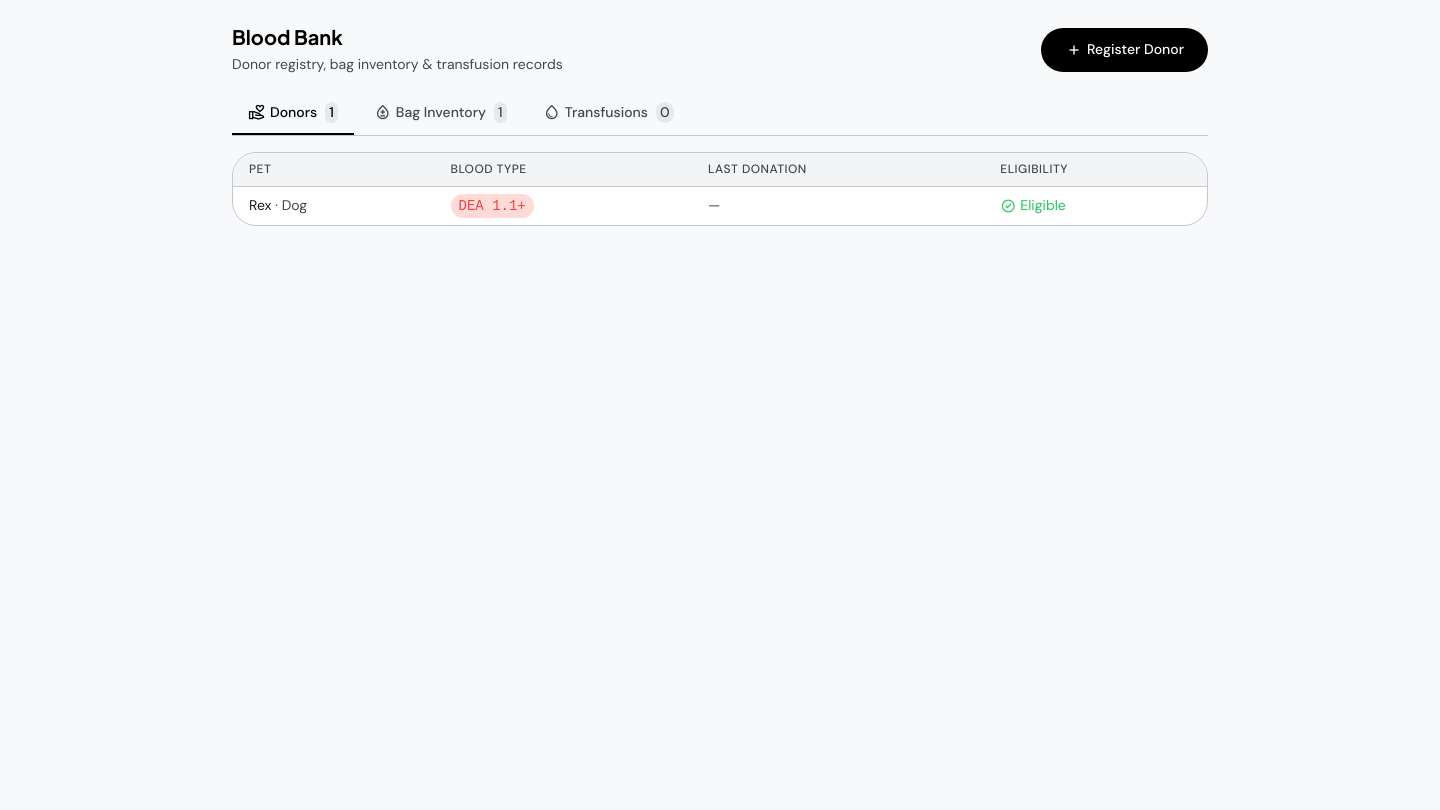
Test: AdminBloodBank — CollectionModal (MODAL-9, dismissal="explicit") › opens from "Record Collection" with an <h2> title and a close control
The image size is (1440, 810).
Click the button "Bag Inventory 1": (440, 113) [358,91,523,135]
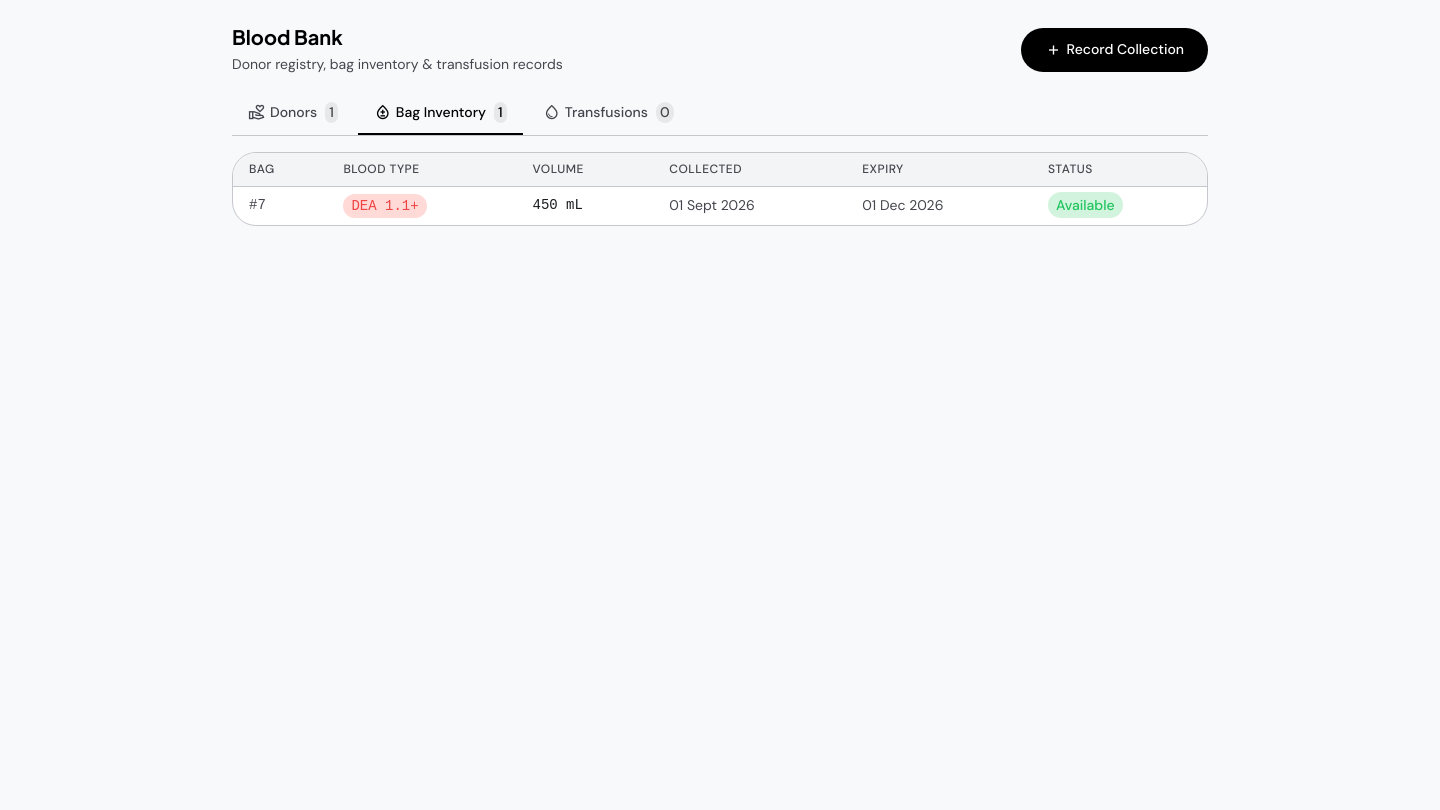
Click the button "Record Collection": (1114, 50) [1021,28,1208,72]
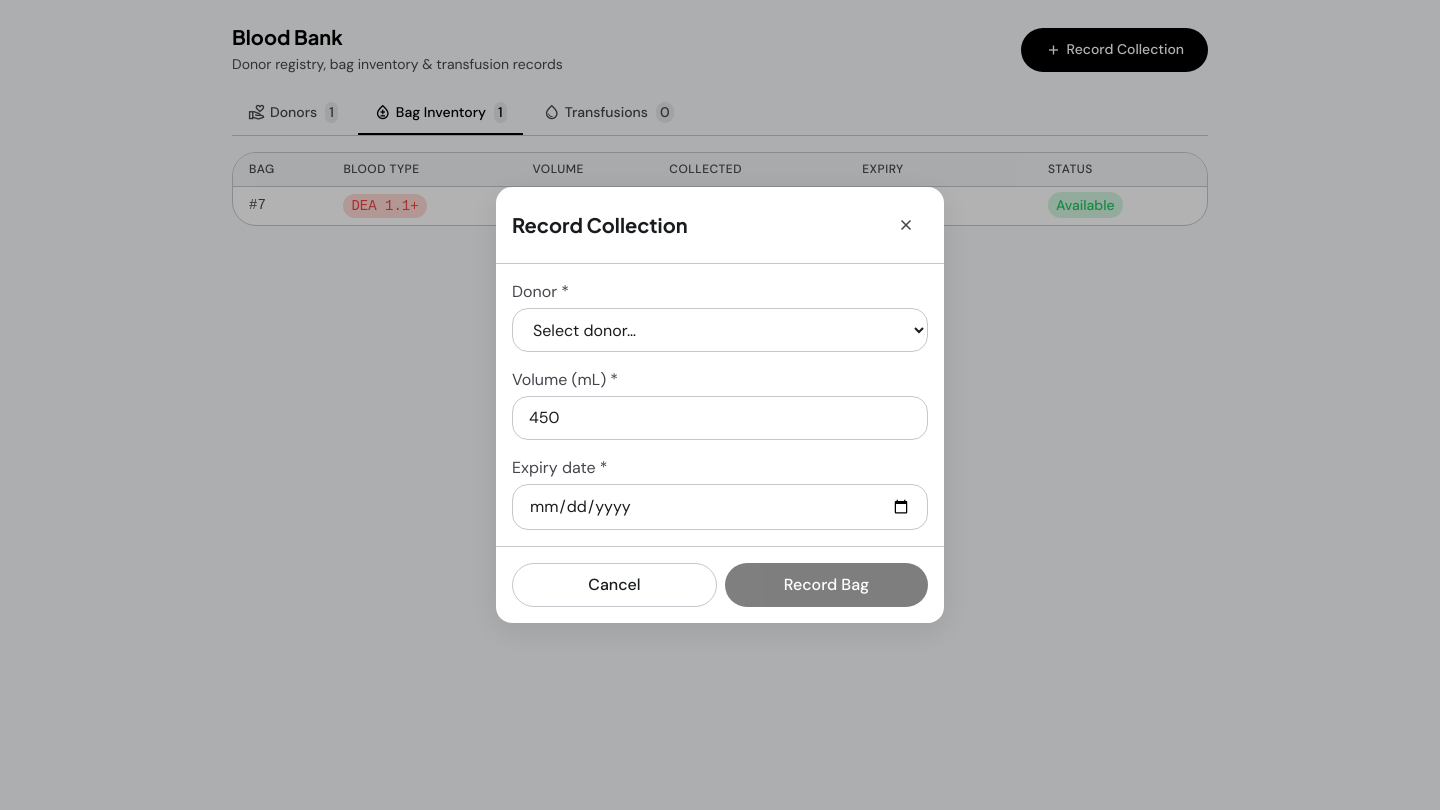
Now the heading "Record Collection" is shown, box [512,212,688,238]
Now the button named "Close dialog" is shown, box [884,203,928,247]
